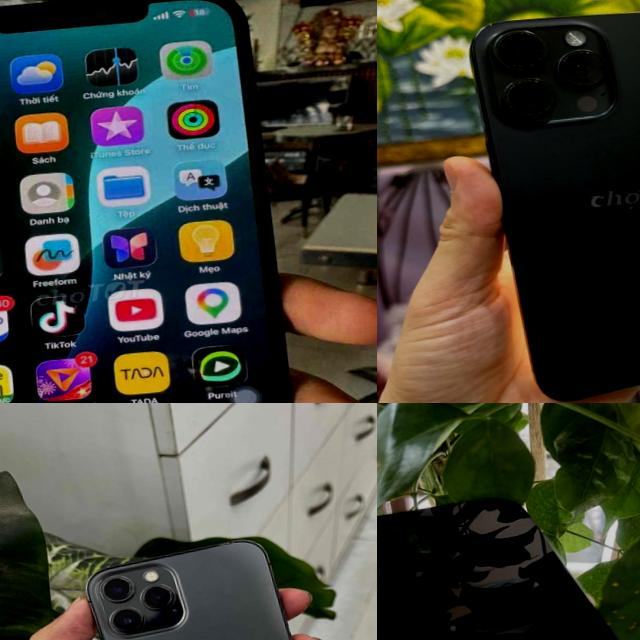scratch: (484, 20, 616, 122)
